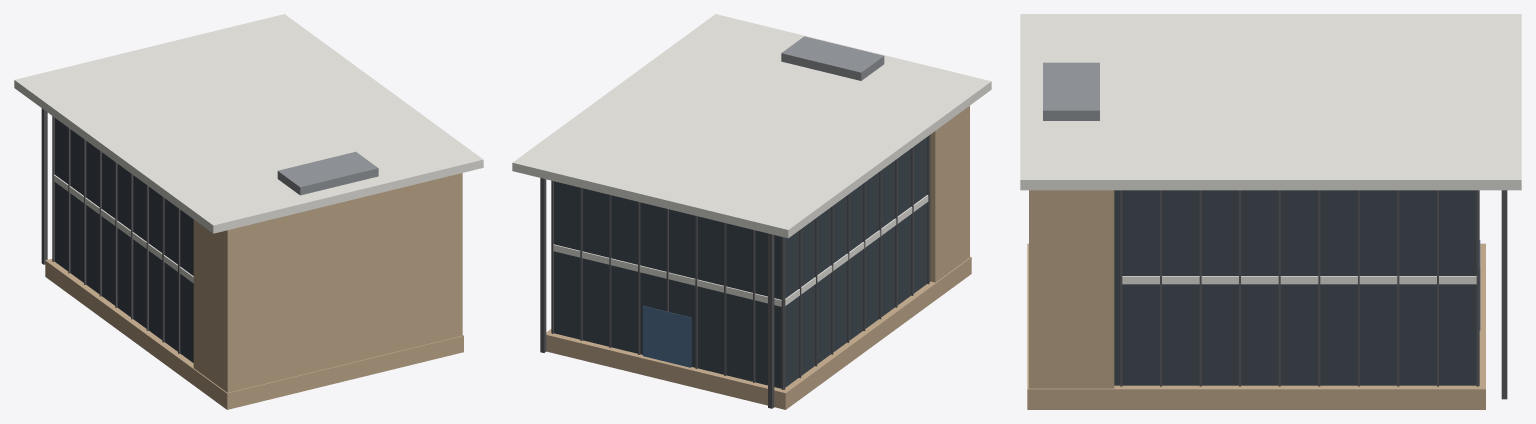
File: museum_wing.glb
3 views of the same model, side by side, from view 1: azimuth 30°, elevation 25°; view 2: azimuth 150°, elevation 25°; view 3: azimuth 270°, elevation 25° (orthographic). The views are drawn at different scales.
Visible parts, largest first — view 1: museum_wing; view 2: museum_wing; view 3: museum_wing.
Part boxes in pixels (bbox=[...]): museum_wing: bbox=[14, 14, 483, 409]; museum_wing: bbox=[512, 14, 991, 409]; museum_wing: bbox=[1020, 14, 1521, 409].
Bounding box in the file's own units: 13.8 × 9.7 × 17.6.
